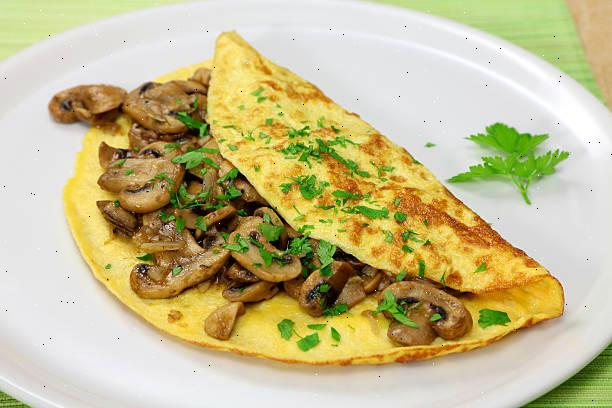omelette: (70, 28, 565, 344)
